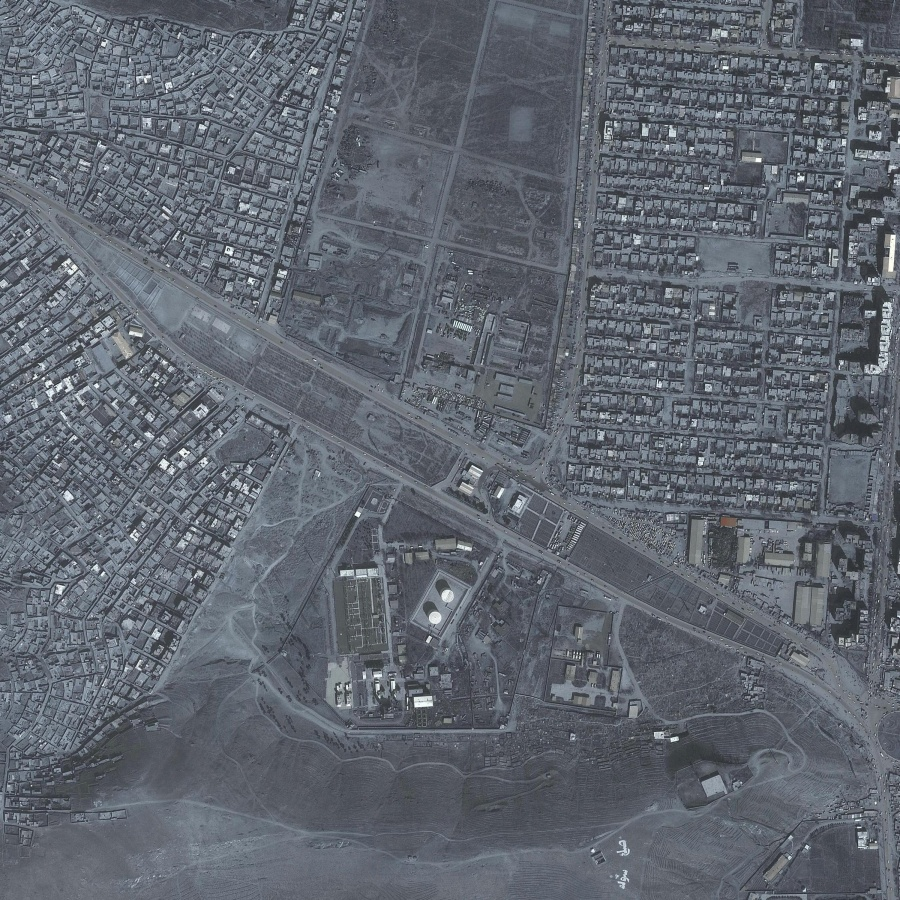PowerPlant: (335, 531, 478, 722)
